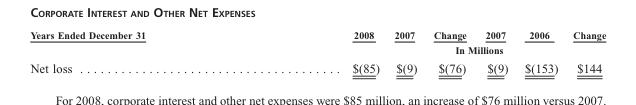table: (29, 28, 605, 74)
table column: (29, 28, 248, 74), (248, 28, 386, 74), (424, 28, 475, 74), (515, 28, 564, 74), (564, 28, 605, 74), (475, 28, 515, 74), (386, 28, 424, 74)
table column header: (29, 28, 605, 57)
table row: (29, 57, 605, 74), (29, 41, 605, 57), (29, 28, 605, 41)
table spanning cell: (29, 28, 248, 57), (248, 41, 605, 57)
